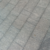zebra: (1, 8, 50, 46)
